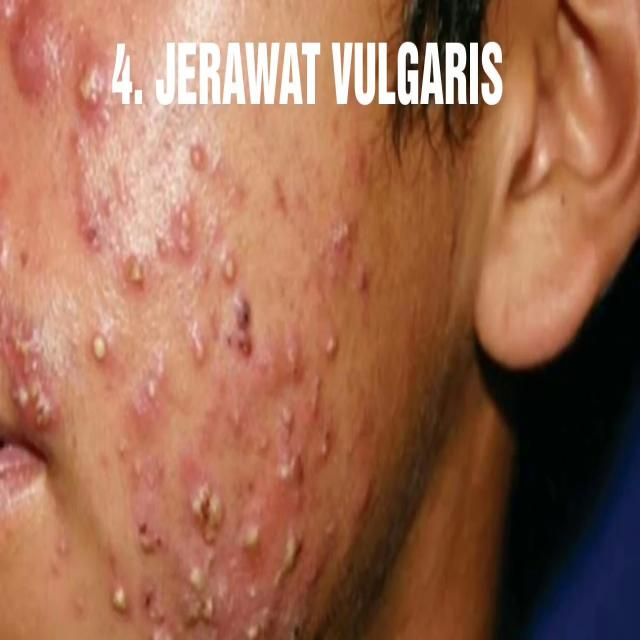Acne: (8, 123, 380, 640), (2, 5, 110, 114)
